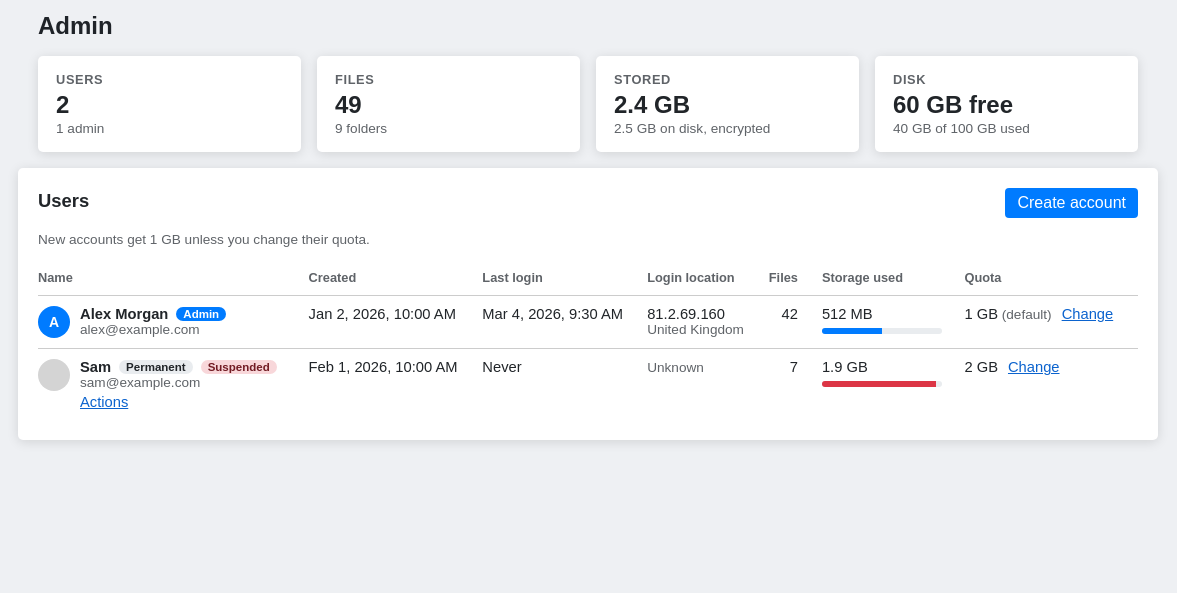
Admin page › suspending › offers Unsuspend for a suspended account and lifts the suspension
Click the button with aria-label "Actions for sam@example.com" at x=104, y=402, box [80,394,128,410]
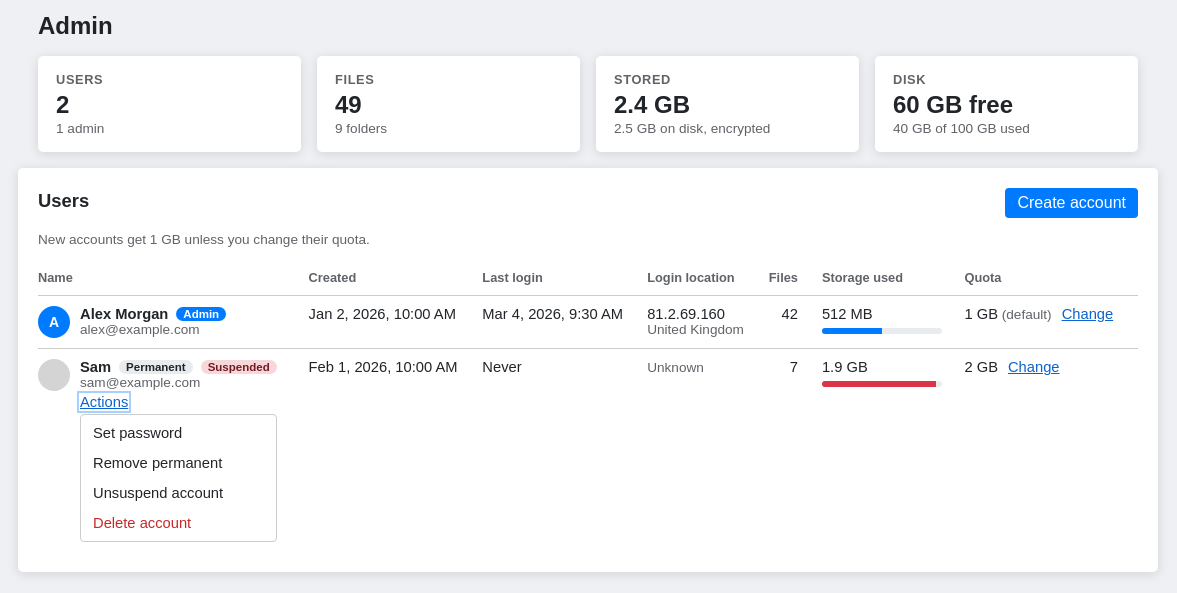
Click the menu item "Unsuspend account" at x=158, y=493, box [85,479,231,507]
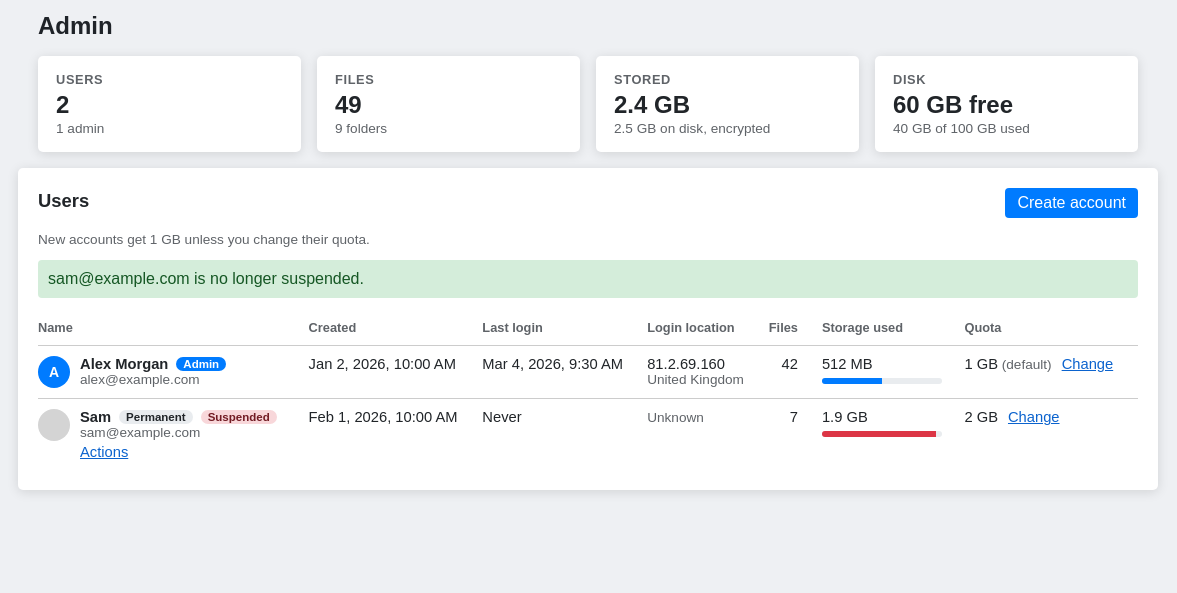
Check: the message reads "sam@example.com is no longer suspended.", box [48,270,364,287]
